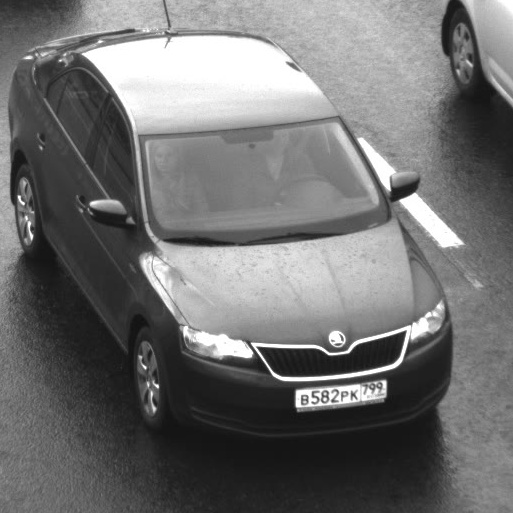plate: (282, 366, 395, 417)
